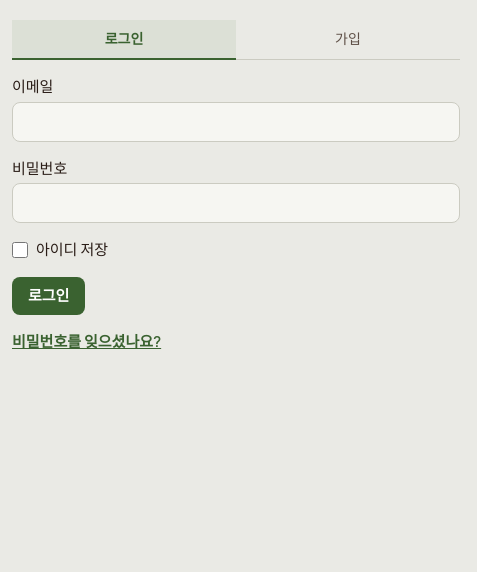
journal auth form › switches mode with tabs (aria-selected, arrow keys)
The image size is (477, 572).
Expected: the field labelled "비밀번호 확인" is not shown
Click the tab "가입" at point(348, 40), box [236,20,460,60]
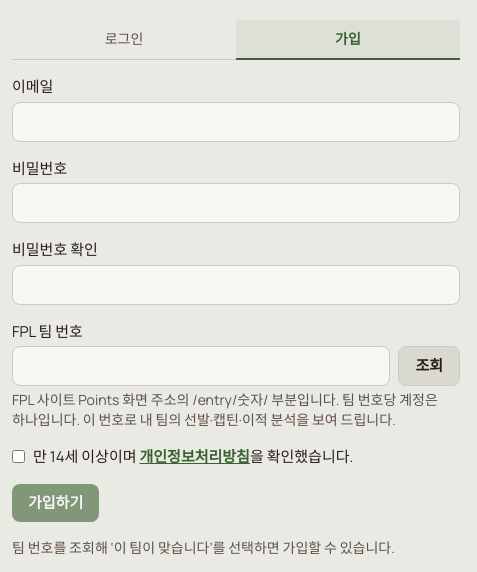
Expected: the password field labelled "비밀번호 확인" is shown, [12,265,460,305]
Press ArrowLeft in the tab "가입", box [236,20,460,60]
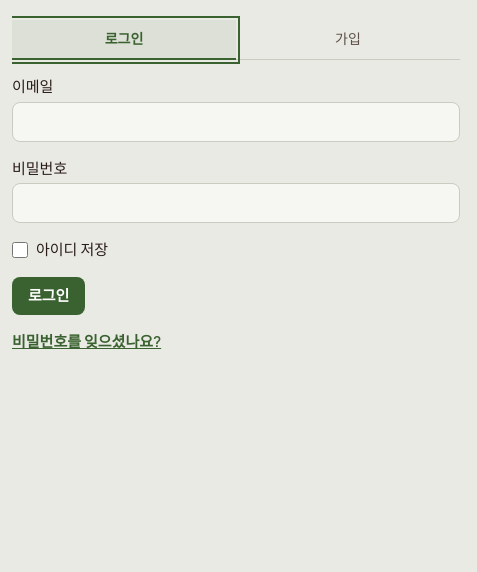
Expected: the label labelled "비밀번호 확인" is gone
